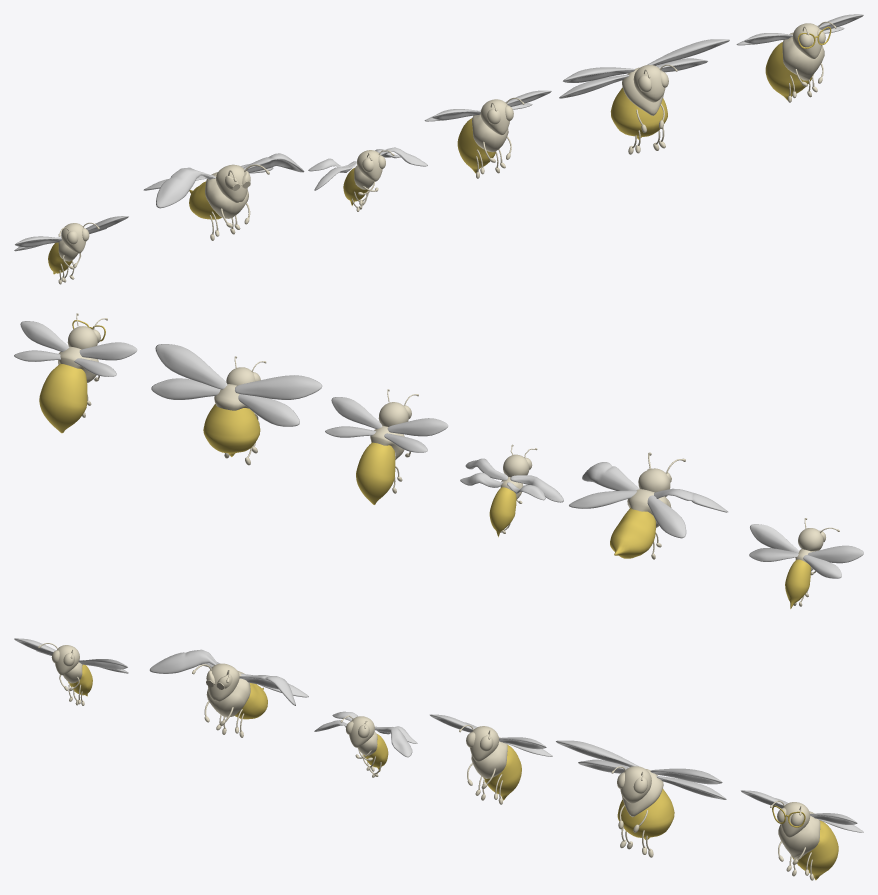
The model's file is CombinedBeezzz.fbx.
3 views of the same model, one above another, from view 1: azimuth 30°, elevation 25°; view 2: azimuth 150°, elevation 25°; view 3: azimuth 330°, elevation 25° (orthographic).
Visible parts, largest first — view 1: Wing (×5), BuzzBee_Body (×4), BuzzBee_Fluff (×4), BuzzBee_Head1 (×3), Wing1, BuzzBee_Head, polySurface4; view 2: BuzzBee_Body (×6), Wing (×5), Wing1 (×5), polySurface4, BuzzBee_Head1 (×2), polySurface2; view 3: Wing (×5), BuzzBee_Body (×4), BuzzBee_Fluff (×4), BuzzBee_Head1 (×3), Wing1, BuzzBee_Head, polySurface4.
Part boxes in pixels (<box>): Wing (×5): <box>156,14,863,208</box>; BuzzBee_Body (×4): <box>189,42,813,219</box>; BuzzBee_Fluff (×4): <box>205,32,824,218</box>; BuzzBee_Head1 (×3): <box>216,23,821,202</box>; Wing1: <box>559,58,707,98</box>; BuzzBee_Head: <box>633,65,665,102</box>; polySurface4: <box>15,216,128,247</box>; BuzzBee_Body (×6): <box>39,363,810,608</box>; Wing (×5): <box>20,321,727,512</box>; Wing1 (×5): <box>14,350,686,538</box>; polySurface4: <box>750,524,863,563</box>; BuzzBee_Head1 (×2): <box>378,402,670,496</box>; polySurface2: <box>749,548,841,578</box>; Wing (×5): <box>149,649,857,824</box>; BuzzBee_Body (×4): <box>235,683,838,880</box>; BuzzBee_Fluff (×4): <box>206,671,820,859</box>; BuzzBee_Head1 (×3): <box>208,663,810,837</box>; Wing1: <box>578,759,726,799</box>; BuzzBee_Head: <box>620,766,651,803</box>; polySurface4: <box>14,638,127,669</box>.
Bounding box in the file's own units: 61.33 × 6.78 × 7.49.
